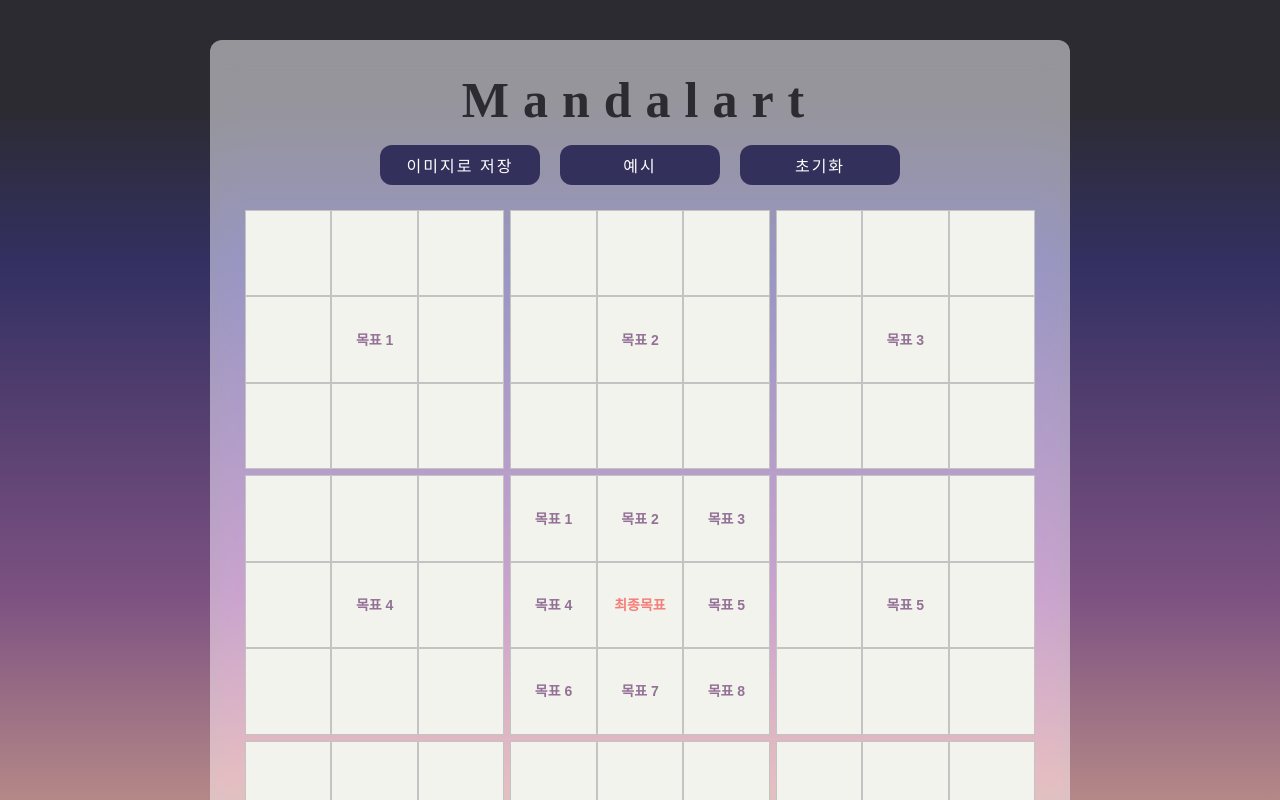
Test case: 만다라트 페이지 › 상호작용에 대한 액션 › 만다라트가 초기화된다
Expected: the button "초기화" is shown, [740, 145, 900, 185]
Expected: the field with test id "4_0" is shown, [511, 510, 596, 528]
Type "2024목표" into the field with test id "4_4".
click(640, 605); type("2024목표")  # box [598, 596, 682, 614]
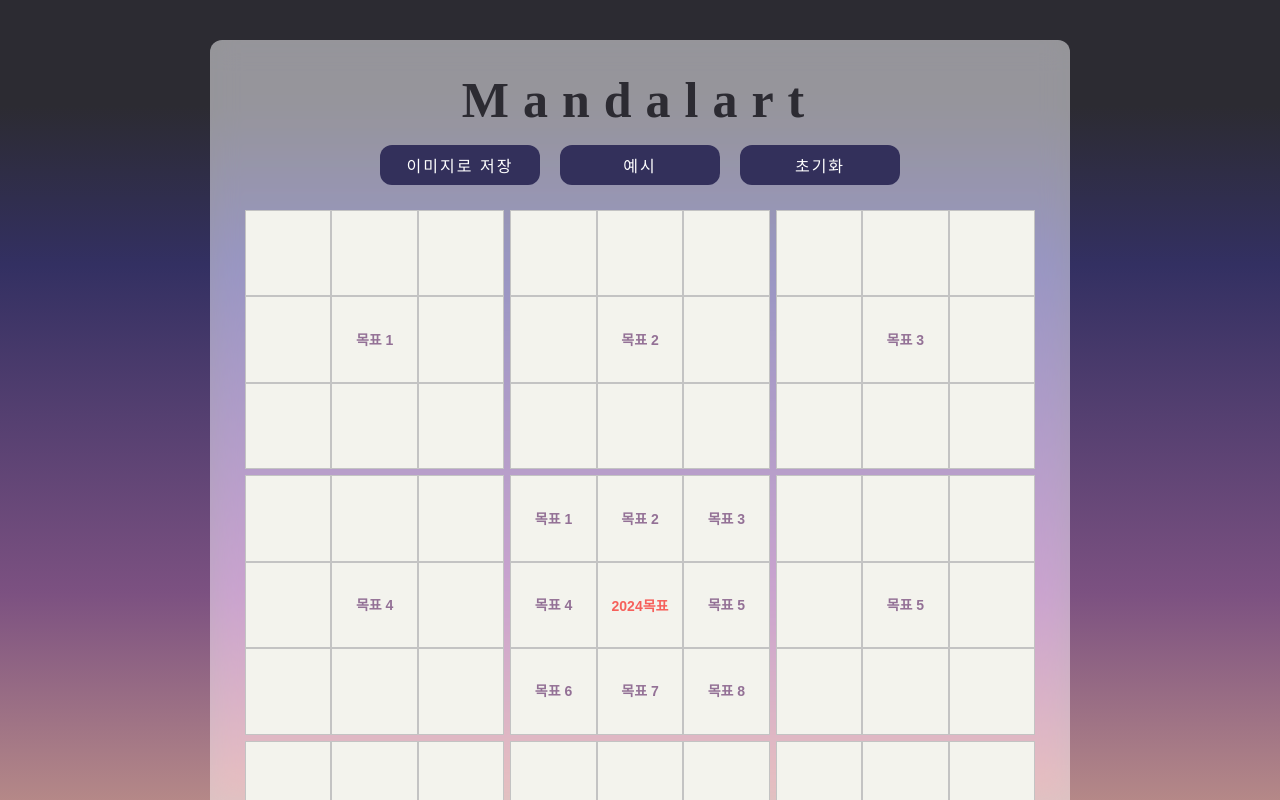
Type "건강" into the field with test id "4_0".
click(554, 518); type("건강")  # box [511, 510, 596, 528]
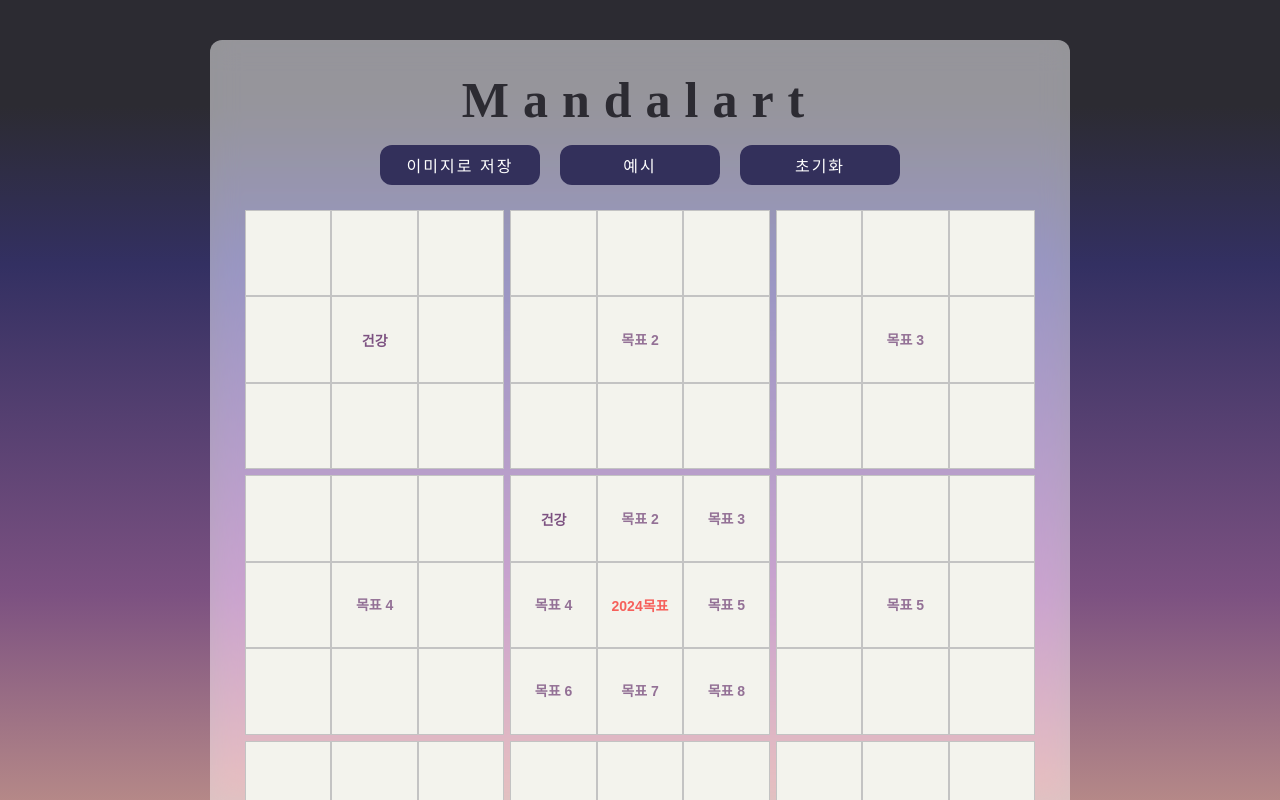
Type "유산소30분" into the field with test id "1_1".
click(640, 253); type("유산소30분")  # box [598, 244, 682, 262]
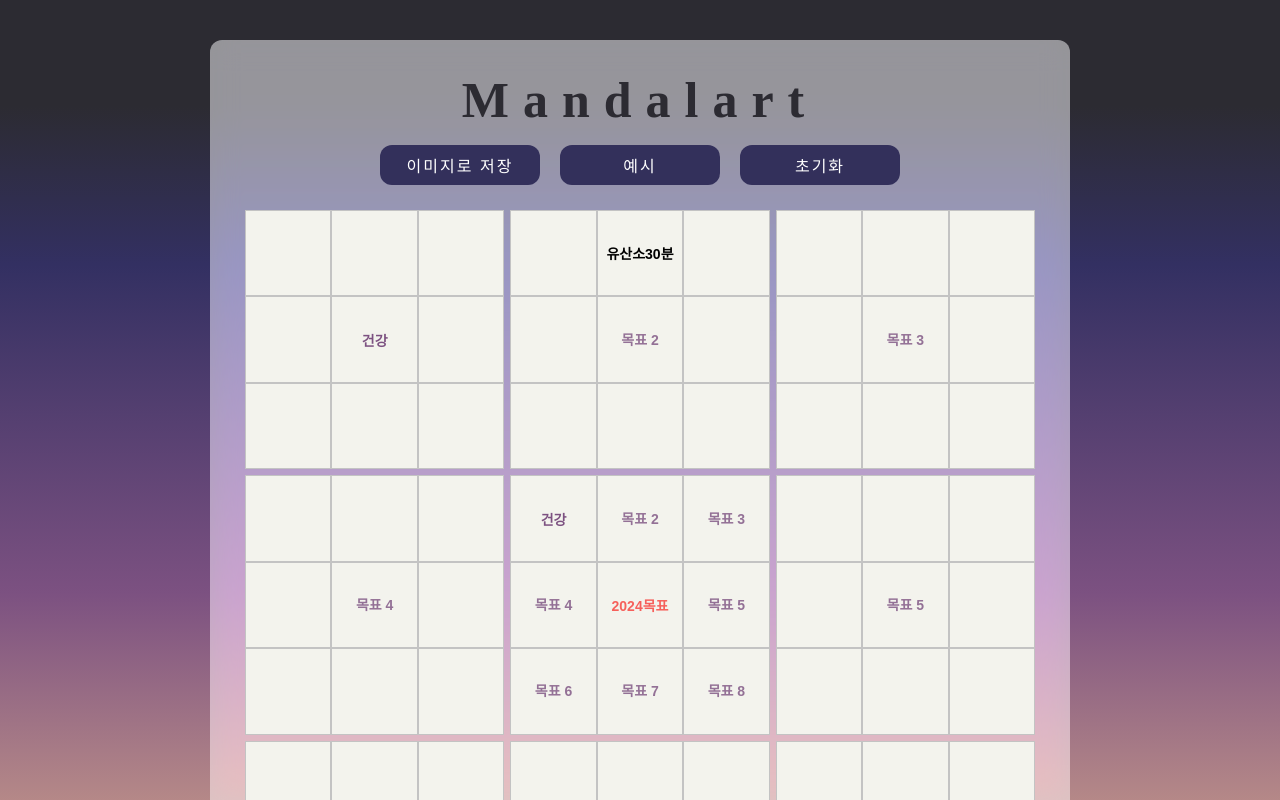
Click the button "초기화".
click(820, 165)  # box [740, 145, 900, 185]
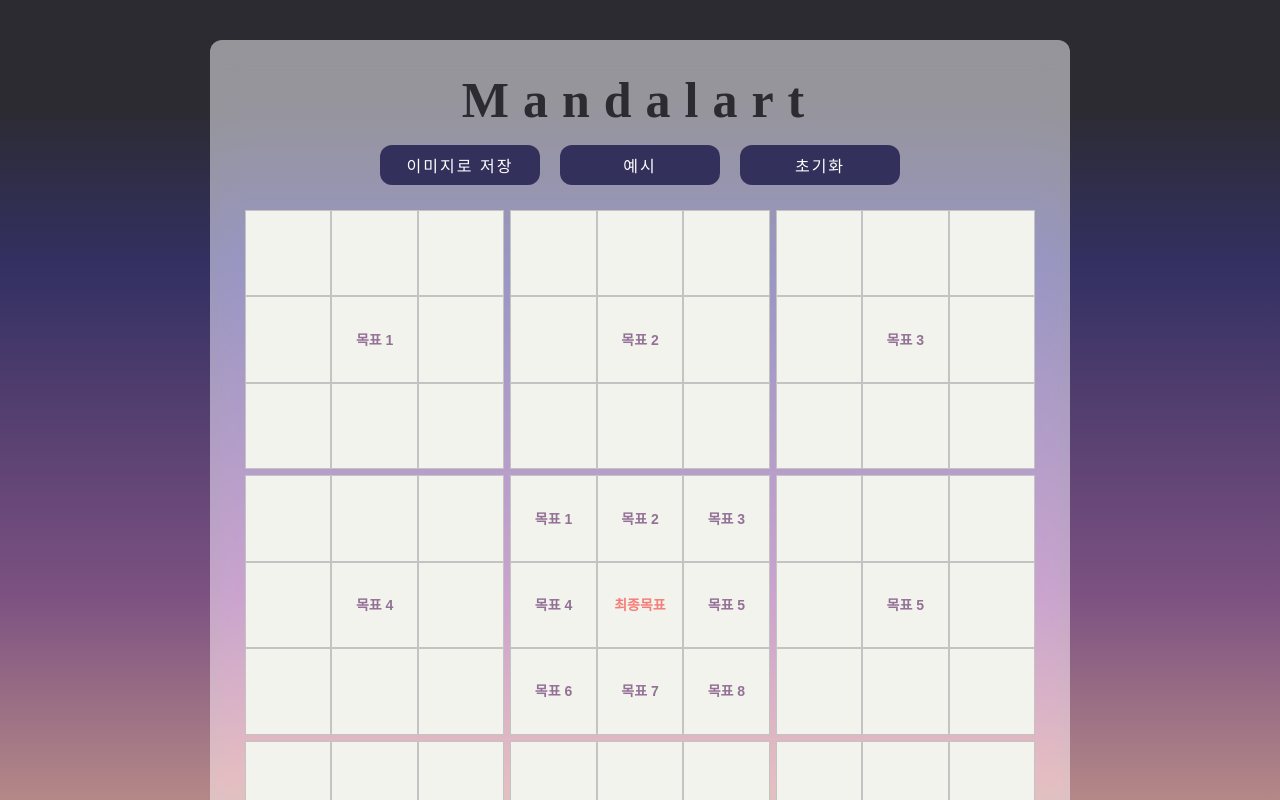
Now the field with test id "4_4" is empty, box [598, 596, 682, 614]
Now the field with test id "4_0" is empty, box [511, 510, 596, 528]
Now the field with test id "1_1" is empty, box [598, 244, 682, 262]
